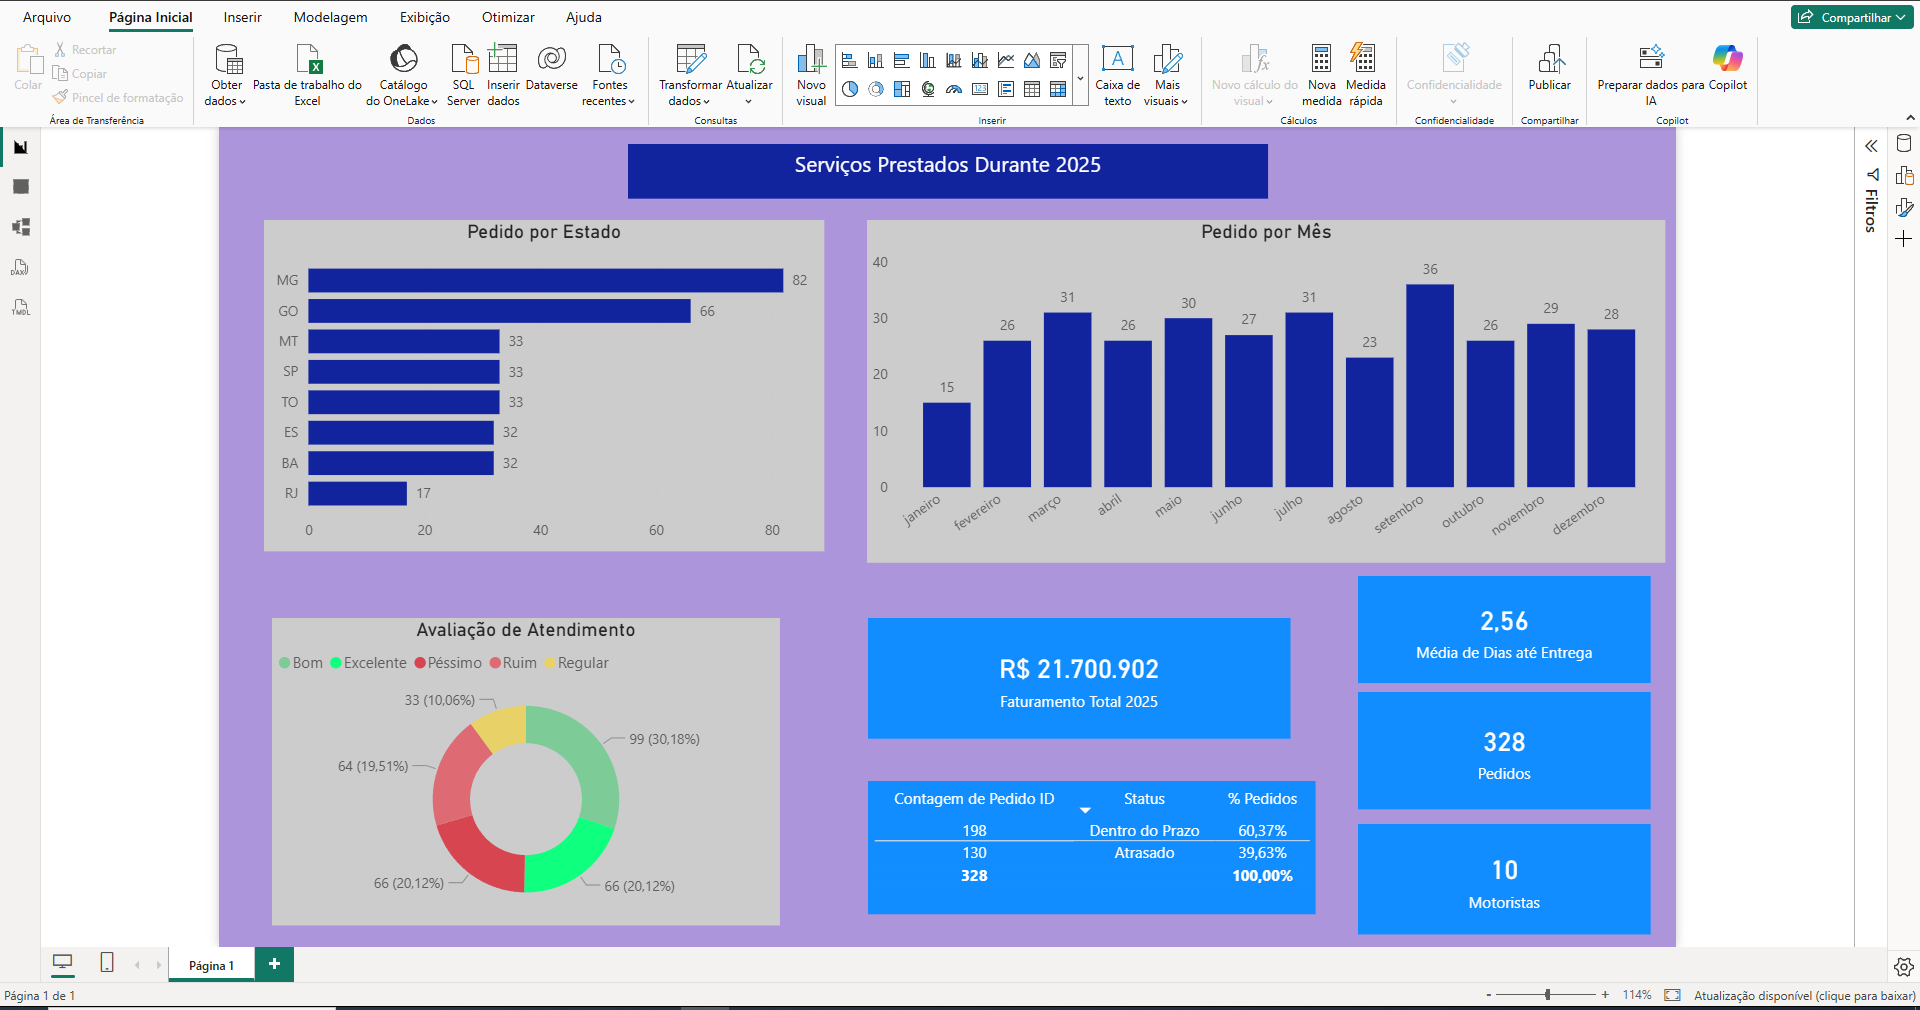

The page's visual inventory and layout, read from the dashboard file:
{"tool":"powerbi","page":{"name":"Página 1","canvas":[1280,720],"ordinal":0},"visuals":[{"type":"card","fields":{"Values":["Horizonte Transportes.Pedidos"]},"box":[999.8,495.9,257,102.8],"z":0},{"type":"tableEx","fields":{"Values":["CountNonNull(Horizonte Transportes.Pedido ID)","Horizonte Transportes.Status","Horizonte Transportes.Pedidos"]},"box":[569.4,574.5,393.1,116.9],"z":1000},{"type":"columnChart","title":"Pedido por Mês","fields":{"Y":["CountNonNull(Horizonte Transportes.Pedido ID)"],"Category":["Horizonte Transportes.Data de Entrega.Variation.Hierarquia de datas.Mês"]},"box":[569.3,81.6,701.4,300.6],"z":2000},{"type":"textbox","box":[358.8,15.1,562.4,48.4],"z":3000},{"type":"card","fields":{"Values":["Avg(Horizonte Transportes.Dias até Entrega)"]},"box":[999.8,394.1,257,93.7],"z":4000},{"type":"clusteredBarChart","title":"Pedido por Estado","fields":{"Y":["CountNonNull(Horizonte Transportes.Pedido ID)"],"Category":["Horizonte Transportes.Estado"]},"box":[39.9,81.6,492.1,290.8],"z":5000},{"type":"donutChart","title":"Avaliação de Atendimento","fields":{"Category":["Horizonte Transportes.Avaliação"],"Y":["CountNonNull(Horizonte Transportes.Pedido ID)"]},"box":[46.1,430.9,446,270.4],"z":6000},{"type":"card","fields":{"Values":["Sum(Horizonte Transportes.Faturamento)"]},"box":[569.4,431.4,370.9,105.8],"z":7000},{"type":"card","fields":{"Values":["Horizonte Transportes.Motoristas"]},"box":[999.8,611.8,257,96.8],"z":8000}]}

Visuals, with their boxes on the page's 1280x720 design canvas (x1, y1, x2, y2). These are canvas units, not pixel positions in the 1920x1010 screenshot, which may show the page scaled, cropped or inside an application window:
card - Horizonte Transportes.Pedidos: <box>1000,496,1257,599</box>
tableEx - CountNonNull(Horizonte Transportes.Pedido ID) x Horizonte Transportes.Status: <box>569,574,962,691</box>
"Pedido por Mês" columnChart: <box>569,82,1271,382</box>
textbox: <box>359,15,921,64</box>
card - Avg(Horizonte Transportes.Dias até Entrega): <box>1000,394,1257,488</box>
"Pedido por Estado" clusteredBarChart: <box>40,82,532,372</box>
"Avaliação de Atendimento" donutChart: <box>46,431,492,701</box>
card - Sum(Horizonte Transportes.Faturamento): <box>569,431,940,537</box>
card - Horizonte Transportes.Motoristas: <box>1000,612,1257,709</box>
